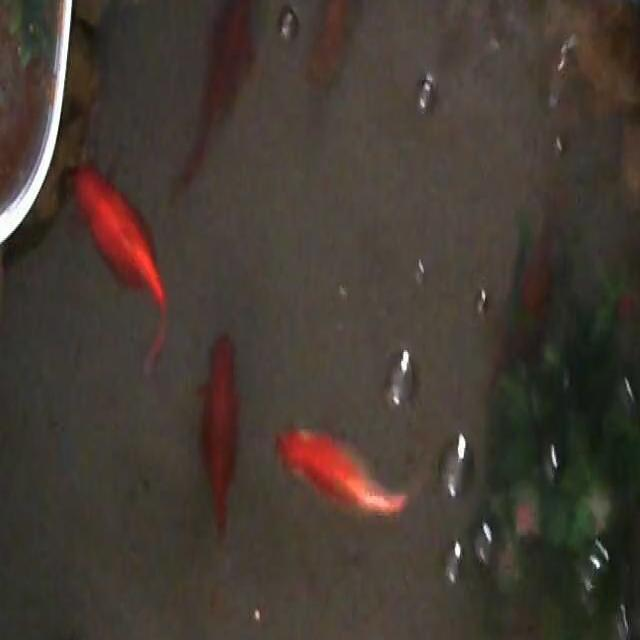fish: (66, 162, 168, 374), (173, 0, 258, 197), (276, 426, 420, 521), (194, 331, 240, 536), (305, 0, 356, 98)
